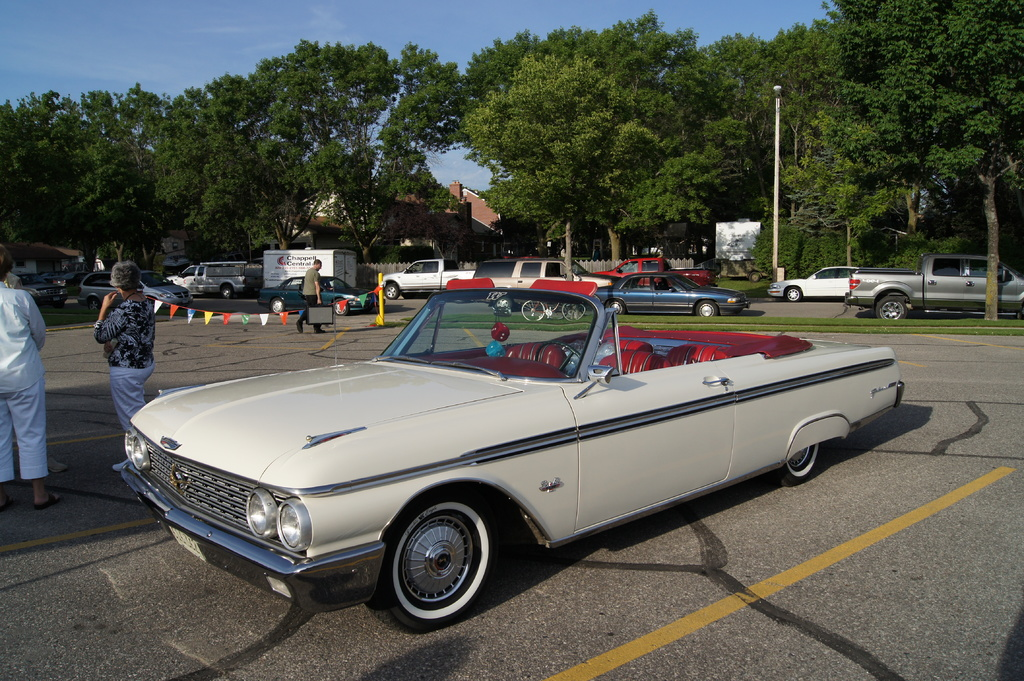car: (115, 243, 926, 646), (841, 244, 1024, 329), (572, 266, 765, 324), (74, 258, 197, 318), (473, 247, 625, 295), (248, 269, 378, 324), (376, 245, 490, 305), (768, 260, 862, 309), (172, 254, 254, 301)
